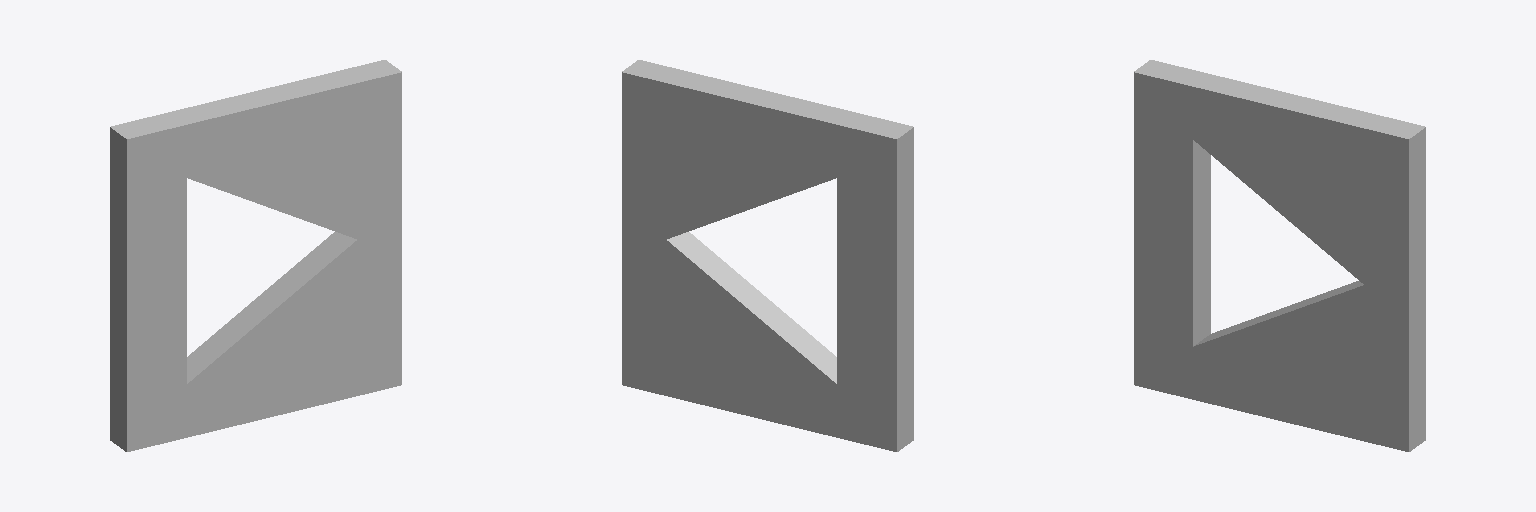
The model's file is red_triangle_hole.obj.
3 renders of one model, left to right at view 1: azimuth 30°, elevation 25°; view 2: azimuth 150°, elevation 25°; view 3: azimuth 330°, elevation 25°, orthographic.
Bounding box in the file's own units: 0.0922 × 0.1 × 0.01.